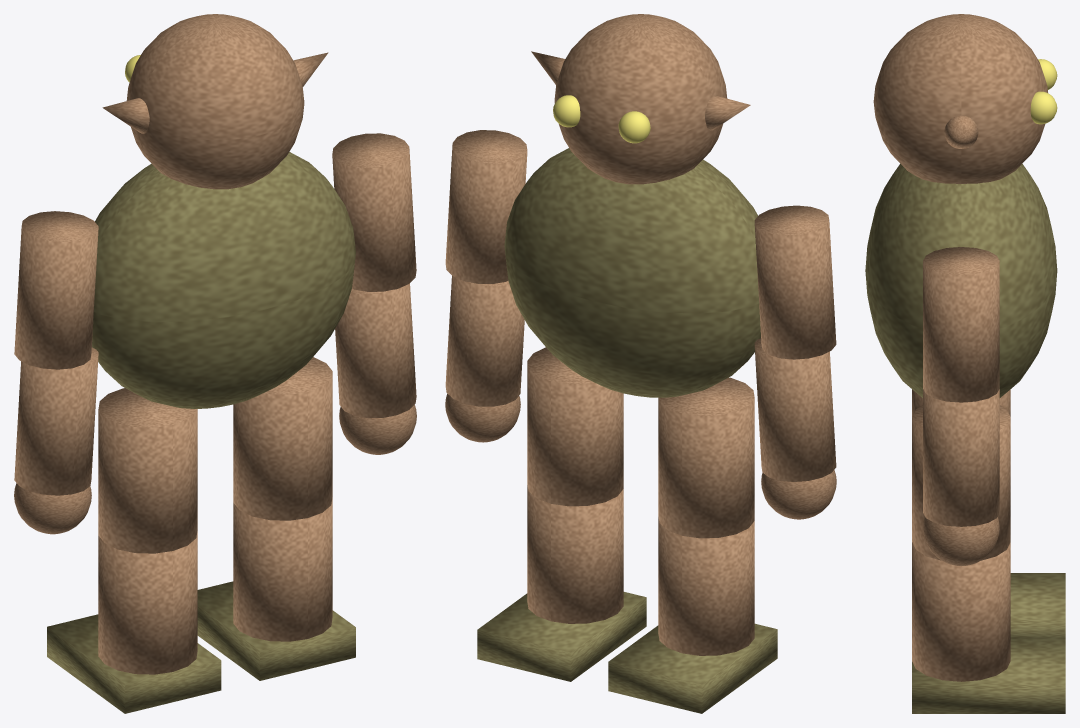
File: dark-elf.glb
The picture shows the model from 3 angles, left to right: view 1: azimuth 30°, elevation 25°; view 2: azimuth 150°, elevation 25°; view 3: azimuth 270°, elevation 25°; orthographic projection. The views are drawn at different scales.
Visible parts, largest first — view 1: Torso, Head, ThighL, ThighR, ShinR, ShinL, UpperArmL, UpperArmR, ForearmL, ForearmR, FootL, FootR (+3 smaller); view 2: Torso, Head, ThighL, ThighR, ShinR, ShinL, UpperArmL, UpperArmR, ForearmL, ForearmR, FootL, FootR (+5 smaller); view 3: Torso, Head, ShinR, UpperArmR, ForearmR, FootR, FootL, ThighR, HandR, Ear.001, Eye.001, ThighL (+1 smaller).
Part boxes in pixels (x1,y1,x2,y2): Torso: (92, 152, 355, 408); Head: (126, 14, 304, 189); ThighL: (98, 388, 197, 553); ThighR: (233, 357, 332, 520); ShinR: (233, 497, 332, 641); ShinL: (98, 531, 197, 674); UpperArmL: (14, 211, 98, 369); UpperArmR: (332, 133, 416, 291); ForearmL: (14, 347, 98, 495); ForearmR: (335, 283, 416, 418); FootL: (47, 614, 221, 713); FootR: (197, 581, 355, 680); Torso: (504, 148, 760, 397); Head: (554, 14, 727, 184); ThighL: (658, 377, 754, 538); ThighR: (527, 347, 623, 506); ShinR: (527, 485, 623, 623); ShinL: (658, 517, 754, 655); UpperArmL: (754, 205, 836, 359); UpperArmR: (445, 130, 527, 283); ForearmL: (754, 338, 836, 481); ForearmR: (445, 276, 524, 406); FootL: (608, 623, 777, 713); FootR: (477, 592, 646, 681); Torso: (865, 163, 1057, 397); Head: (873, 14, 1047, 183); ShinR: (912, 542, 1010, 681); UpperArmR: (923, 247, 999, 402); ForearmR: (923, 389, 999, 526); FootR: (912, 637, 1065, 713); FootL: (1010, 573, 1065, 637); ThighR: (912, 405, 1010, 560); HandR: (923, 517, 999, 566); Ear.001: (944, 115, 978, 148); Eye.001: (1030, 91, 1057, 124); ThighL: (912, 389, 1010, 416).
Size of the model in its own units: 0.6367 by 1 by 0.2852.
Materials: 3 (2 with a texture image).
